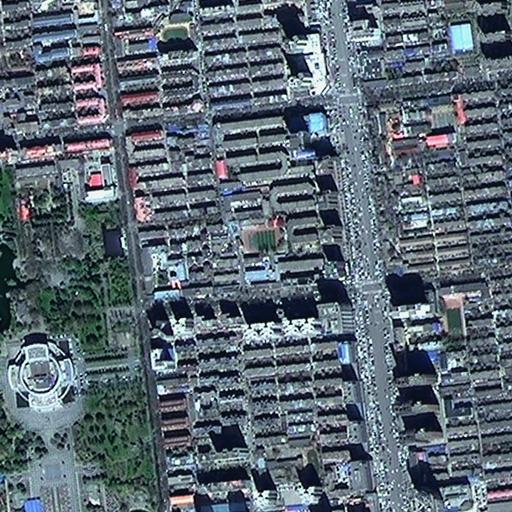school: (436, 282, 489, 340), (240, 223, 282, 281)
